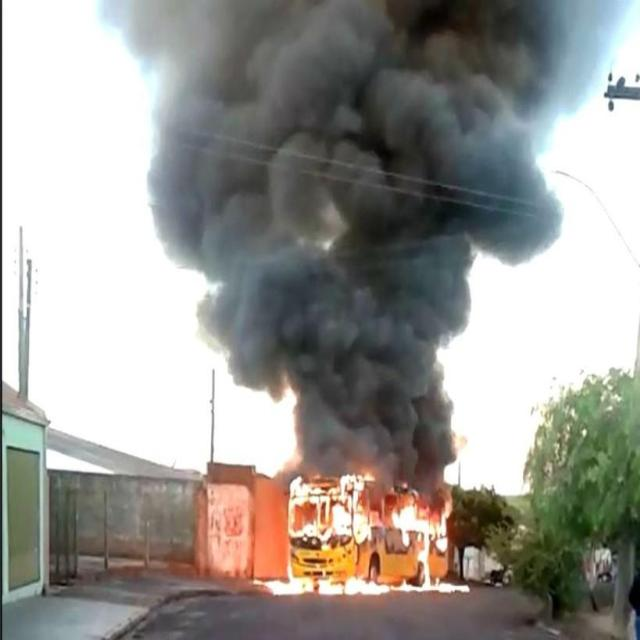Fire: (268, 470, 467, 598)
